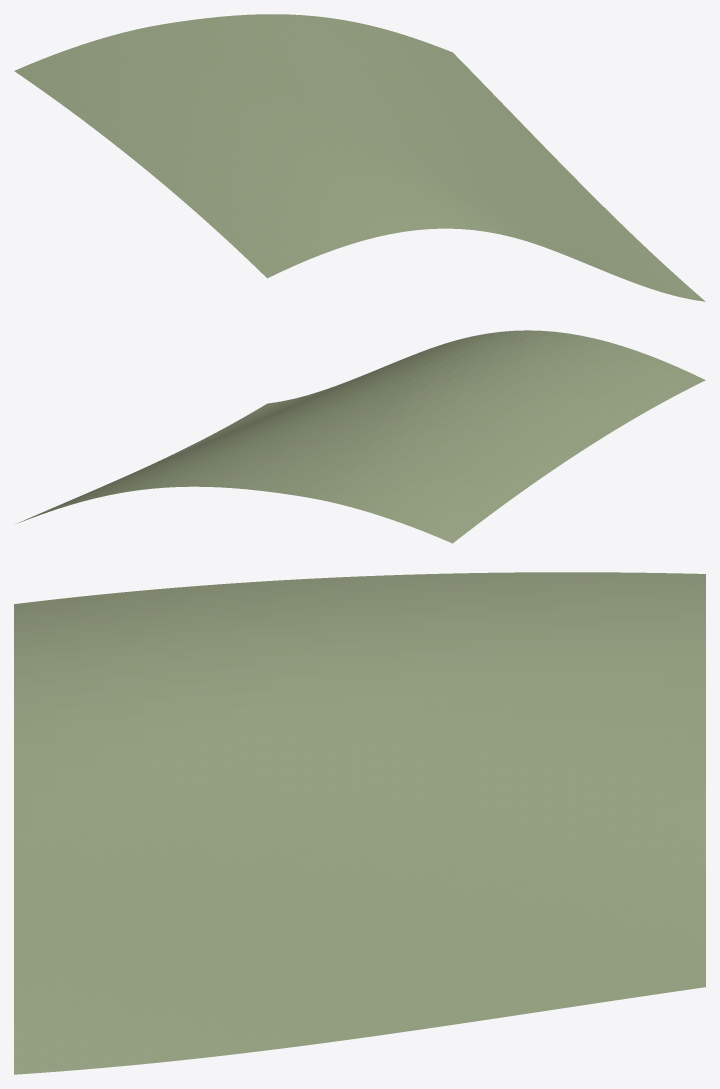
The model's file is expanse-14-6.glb.
3 views of the same model, one above another, from view 1: azimuth 30°, elevation 25°; view 2: azimuth 150°, elevation 25°; view 3: azimuth 270°, elevation 25° (orthographic). The views are drawn at different scales.
Visible parts, largest first — view 1: expanse-14-6; view 2: expanse-14-6; view 3: expanse-14-6.
Boxes of the visible parts, x1,y1,x2,y2 form: expanse-14-6: (14,14,705,301); expanse-14-6: (17,330,705,543); expanse-14-6: (14,572,705,1074).
Size of the model in its own units: 256 by 92.2 by 256.
